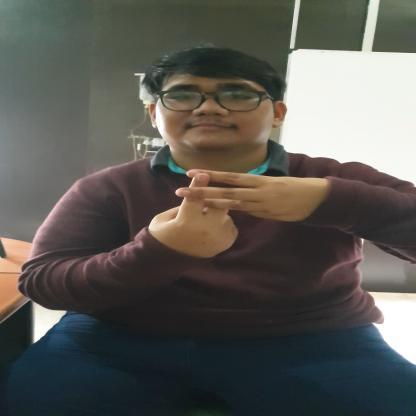B: (150, 166, 306, 260)
